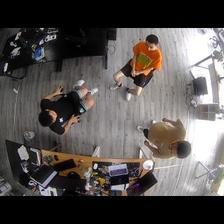normal: (36, 78, 97, 136), (111, 33, 162, 99), (135, 114, 194, 163)
